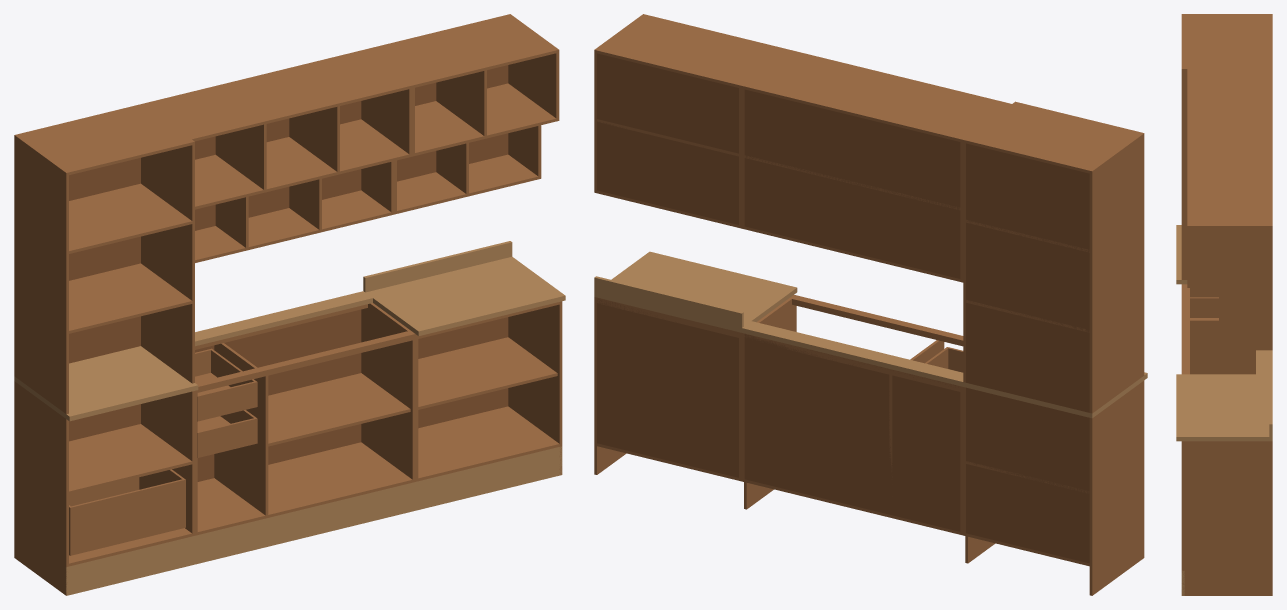
The model's file is cozinha_sem_portas.obj.
3 renders of one model, left to right at view 1: azimuth 30°, elevation 25°; view 2: azimuth 150°, elevation 25°; view 3: azimuth 270°, elevation 25°, orthographic. The views are drawn at different scales.
Parts seen in each view (by area): view 1: Rodape_frontal, Torre_alta_lateral_0, Aereo_120_topo, Torre_alta_lateral_0.685, Balcao_120_base, Balcao_80_tampo_25mm, Balcao_120_fundo, Torre_lateral_E, Aereo_80_topo, Aereo_120_base_sup, Torre_alta_topo, Balcao_80_base (+38 smaller); view 2: Balcao_120_fundo, Aereo_120_fundo, Torre_alta_fundo, Balcao_80_fundo, Aereo_80_fundo, Torre_fundo, Torre_alta_lateral_0, Aereo_120_topo, Torre_lateral_E, Aereo_80_topo, Balcao_80_tampo_25mm, Torre_alta_topo (+12 smaller); view 3: Balcao_80_lateral_D, Aereo_120_topo, Balcao_80_tampo_25mm, Aereo_80_lateral_sup_2.685, Aereo_80_topo, Torre_alta_topo, Aereo_80_lateral_inf_2.685, Balcao_120_divisoria_gavetas, Rodape_direito, Torre_alta_lateral_0.685, Balcao_120_travessa_frontal, Gaveta_1_lateral_E (+6 smaller).
Boxes of the visible parts, x1=… form: Rodape_frontal: x1=65, y1=446, x2=562, y2=595; Torre_alta_lateral_0: x1=14, y1=134, x2=68, y2=414; Aereo_120_topo: x1=146, y1=50, x2=409, y2=141; Torre_alta_lateral_0.685: x1=141, y1=103, x2=194, y2=383; Balcao_120_base: x1=197, y1=442, x2=412, y2=534; Balcao_80_tampo_25mm: x1=365, y1=256, x2=565, y2=336; Balcao_120_fundo: x1=195, y1=309, x2=361, y2=481; Torre_lateral_E: x1=14, y1=381, x2=68, y2=566; Aereo_80_topo: x1=366, y1=14, x2=556, y2=87; Aereo_120_base_sup: x1=195, y1=119, x2=409, y2=209; Torre_alta_topo: x1=17, y1=104, x2=192, y2=175; Balcao_80_base: x1=418, y1=406, x2=559, y2=481; Balcao_120_fundo: x1=744, y1=333, x2=960, y2=531; Aereo_120_fundo: x1=744, y1=89, x2=960, y2=278; Torre_alta_fundo: x1=966, y1=143, x2=1089, y2=412; Balcao_80_fundo: x1=597, y1=298, x2=738, y2=477; Aereo_80_fundo: x1=597, y1=53, x2=738, y2=224; Torre_fundo: x1=966, y1=387, x2=1089, y2=563; Torre_alta_lateral_0: x1=1089, y1=132, x2=1144, y2=413; Aereo_120_topo: x1=744, y1=50, x2=1008, y2=141; Torre_lateral_E: x1=1089, y1=380, x2=1144, y2=566; Aereo_80_topo: x1=597, y1=14, x2=787, y2=87; Balcao_80_tampo_25mm: x1=594, y1=251, x2=797, y2=332; Torre_alta_topo: x1=966, y1=102, x2=1141, y2=173; Balcao_80_lateral_D: x1=1181, y1=441, x2=1272, y2=570; Aereo_120_topo: x1=1187, y1=70, x2=1272, y2=161; Balcao_80_tampo_25mm: x1=1176, y1=374, x2=1272, y2=441; Aereo_80_lateral_sup_2.685: x1=1187, y1=224, x2=1272, y2=287; Aereo_80_topo: x1=1187, y1=164, x2=1272, y2=224; Torre_alta_topo: x1=1181, y1=15, x2=1272, y2=67; Aereo_80_lateral_inf_2.685: x1=1219, y1=288, x2=1272, y2=350; Balcao_120_divisoria_gavetas: x1=1190, y1=319, x2=1255, y2=374; Rodape_direito: x1=1181, y1=570, x2=1272, y2=595; Torre_alta_lateral_0.685: x1=1181, y1=67, x2=1272, y2=279; Balcao_120_travessa_frontal: x1=1181, y1=285, x2=1189, y2=374; Gaveta_1_lateral_E: x1=1190, y1=297, x2=1218, y2=317.
Bounding box in the file's own units: 270 × 220 × 52.
